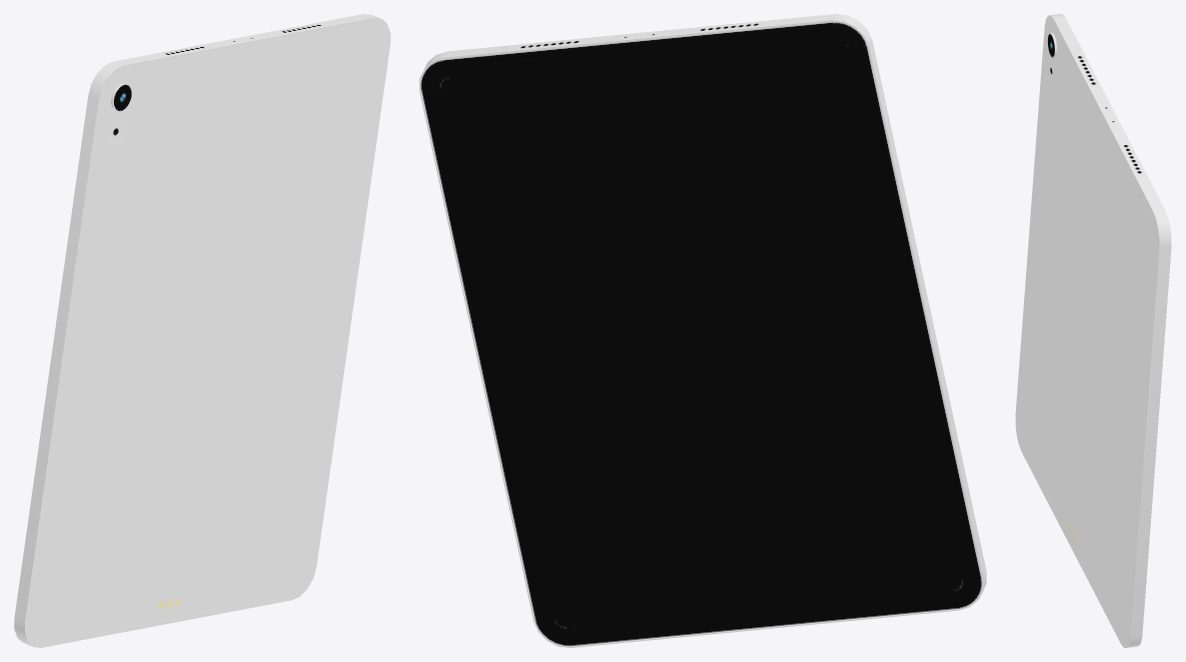
Rendered from air-transformed.glb.
The picture shows the model from 3 angles, left to right: view 1: azimuth 30°, elevation 25°; view 2: azimuth 150°, elevation 25°; view 3: azimuth 270°, elevation 25°; orthographic projection. The views are drawn at different scales.
Visible parts, largest first — view 1: Object_2; view 2: Object_2; view 3: Object_2.
Part boxes in pixels (bbox=[...]): Object_2: bbox=[14, 14, 390, 647]; Object_2: bbox=[419, 14, 986, 647]; Object_2: bbox=[1015, 14, 1171, 647].
Size of the model in its own units: 0.3022 by 0.3916 by 0.1034.
1 material, 1 textured.
